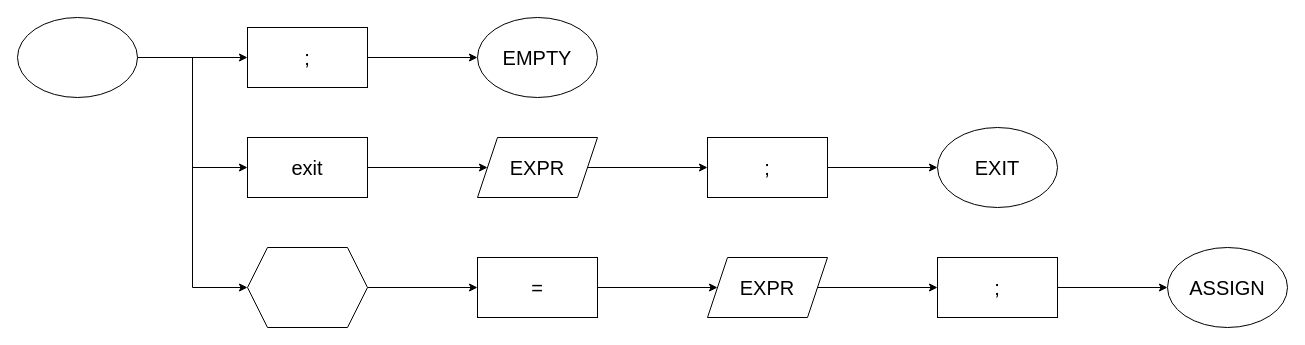
Image size: 1305x345. Some labels were removed from this diagram. The box of each missing label's shape, as (x1, y1, x2, y2) in pixels:
Start: (16, 16, 138, 98)
VARIABLE: (246, 246, 368, 328)
